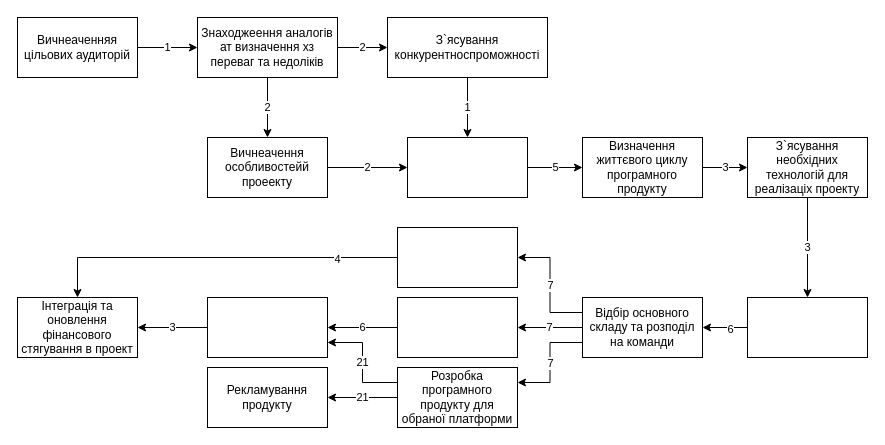
Some shapes in this 885 by 445 pixel diagram are drawn without their labels. Here are the shapes that lost their labels. From the top down, the centre of each, then its label:
point (467, 167): З`ясування доступних платформ дшля виводу продукту
point (457, 257): Визначення з способом фінансового стягування
point (267, 327): Вивід продукту на платформу
point (457, 327): Організаціяя платформи на яку планується вихід
point (807, 327): Визначення основного складу спеціалістів
